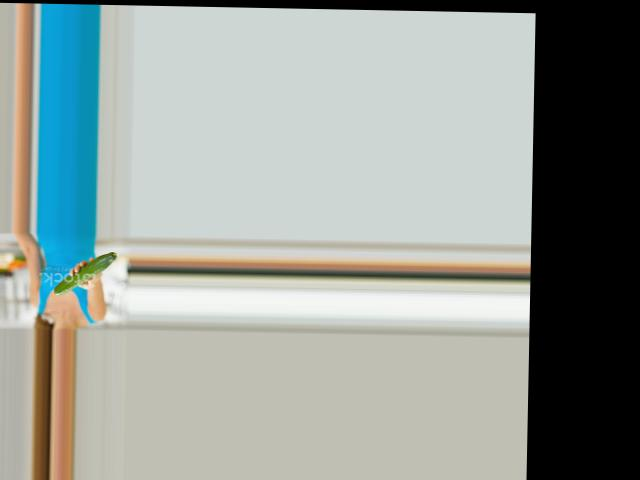cucumber: (53, 250, 116, 295)
